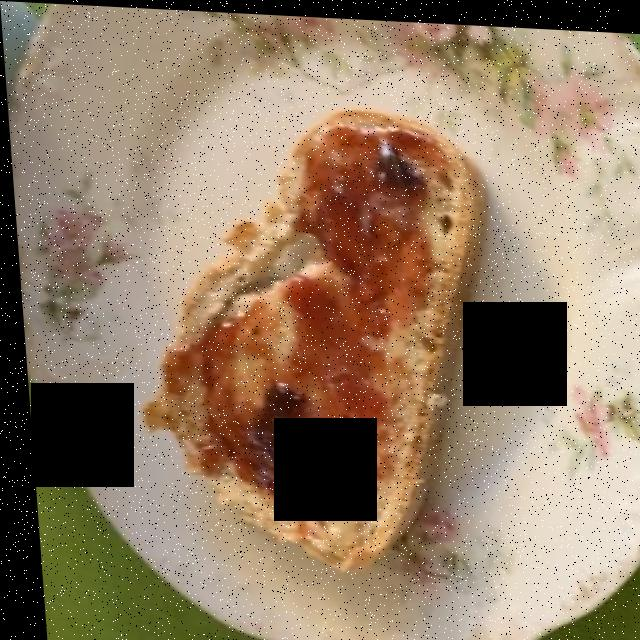bread-wholemeal: (146, 110, 479, 559)
jam: (172, 148, 428, 511)
